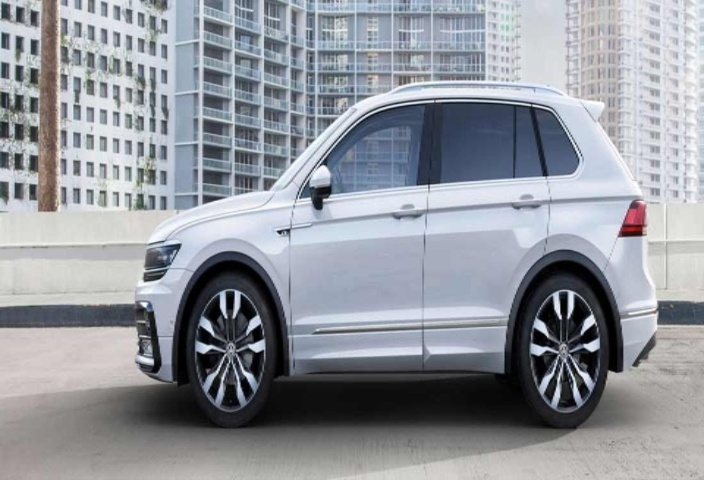camper: (89, 66, 671, 428)
